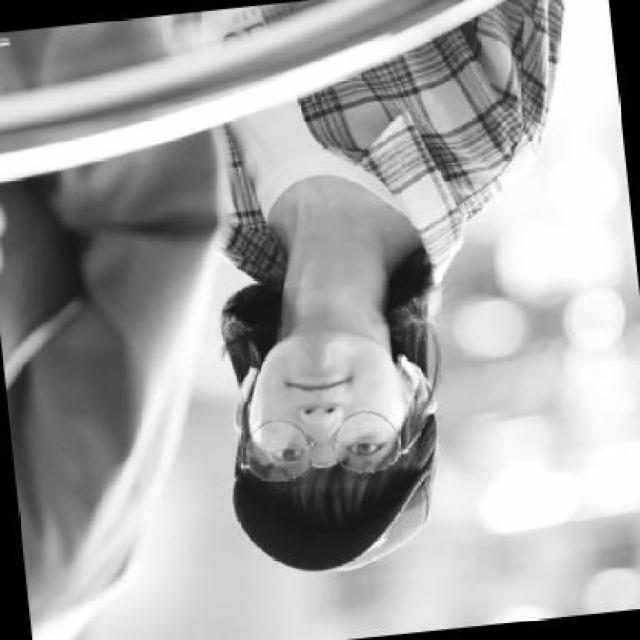earphone: (227, 356, 275, 416), (388, 354, 443, 399)
